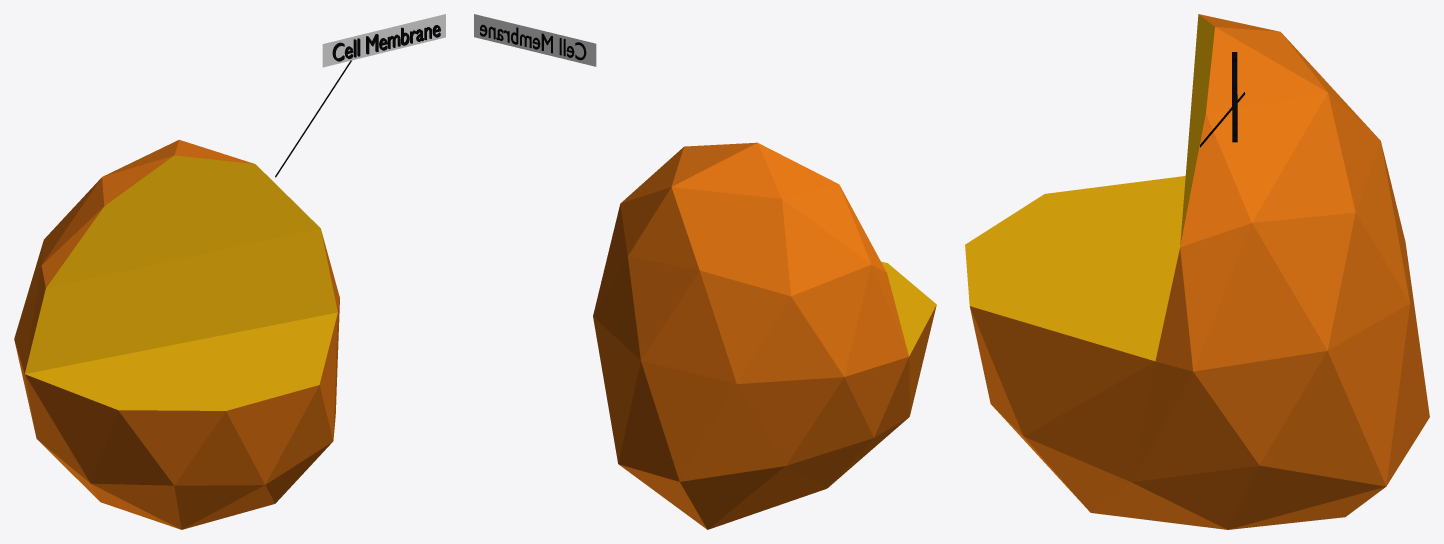
The model's file is cellmembrane.gltf.
3 views of the same model, side by side, from view 1: azimuth 30°, elevation 25°; view 2: azimuth 150°, elevation 25°; view 3: azimuth 270°, elevation 25° (orthographic). The views are drawn at different scales.
Parts seen in each view (by area): view 1: Icosphere, Plane.012, Text.012; view 2: Icosphere, Plane.012, Text.012; view 3: Icosphere, Text.012.
Boxes of the visible parts, box(x1,y1,x2,y2) form: Icosphere: box(14, 139, 339, 529); Plane.012: box(322, 14, 445, 67); Text.012: box(332, 25, 440, 61); Icosphere: box(593, 142, 936, 529); Plane.012: box(474, 14, 596, 66); Text.012: box(480, 24, 586, 60); Icosphere: box(965, 14, 1429, 529); Text.012: box(1232, 52, 1237, 142).
Bounding box in the file's own units: 4.66 × 4.4 × 3.19.
